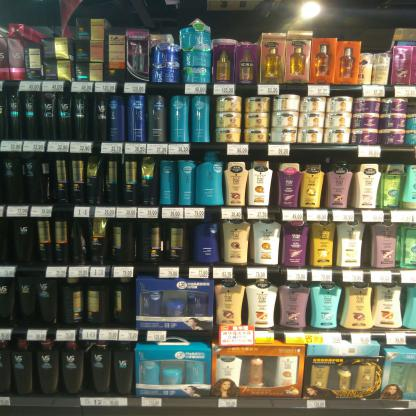Void: (2, 222, 12, 263)
